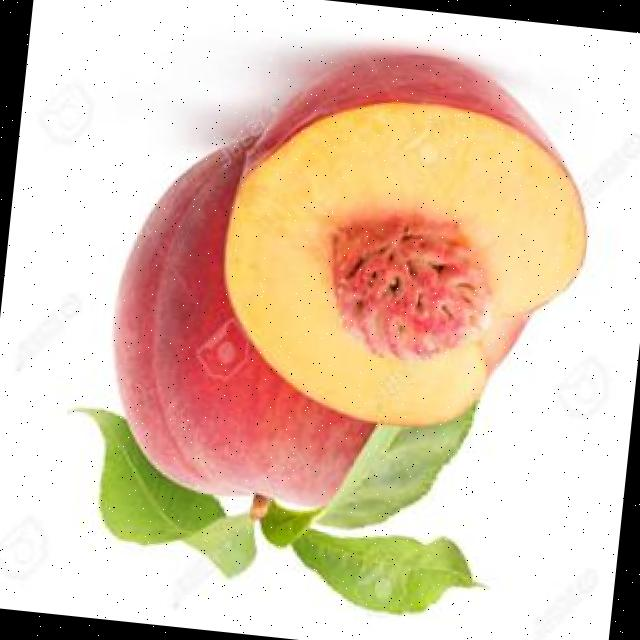peach: (91, 145, 472, 610), (222, 55, 585, 425)
